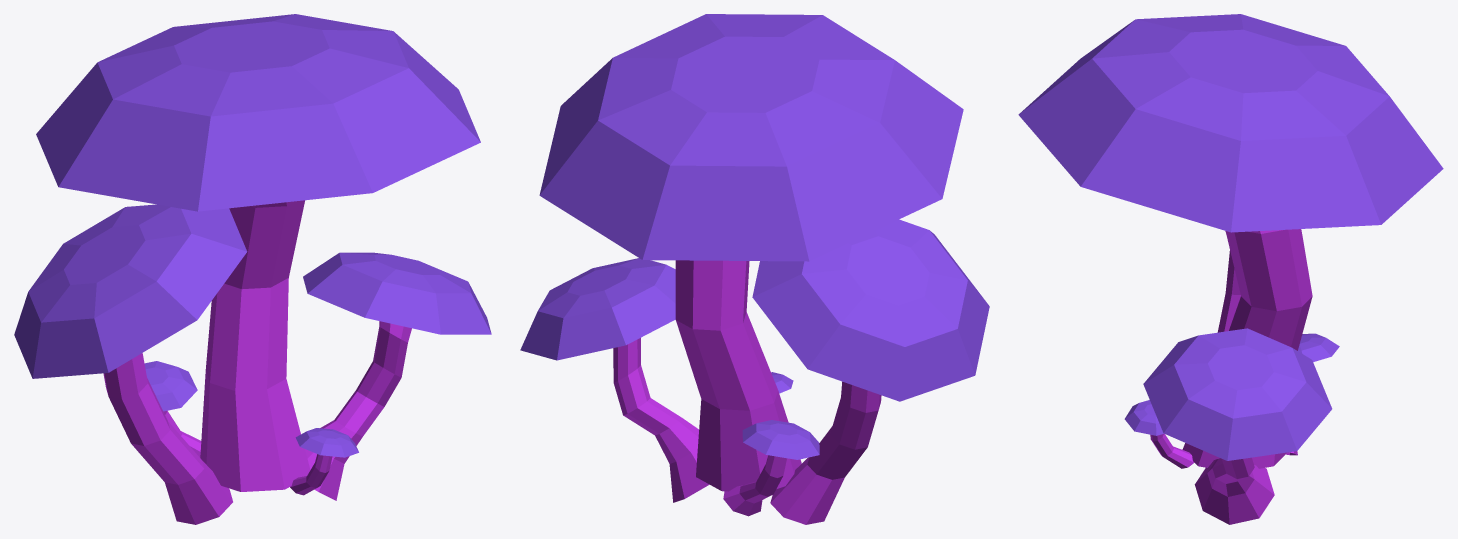
File: Champi.fbx
3 renders of one model, left to right at view 1: azimuth 30°, elevation 25°; view 2: azimuth 150°, elevation 25°; view 3: azimuth 270°, elevation 25°, orthographic. The views are drawn at different scales.
Parts seen in each view (by area): view 1: Circle; view 2: Circle; view 3: Circle.
Part boxes in pixels (left/top/right/bottom): Circle: left=14, top=14, right=491, bottom=524; Circle: left=520, top=14, right=989, bottom=524; Circle: left=1018, top=14, right=1443, bottom=524.
Bounding box in the file's own units: 1369 × 1355 × 1188.
